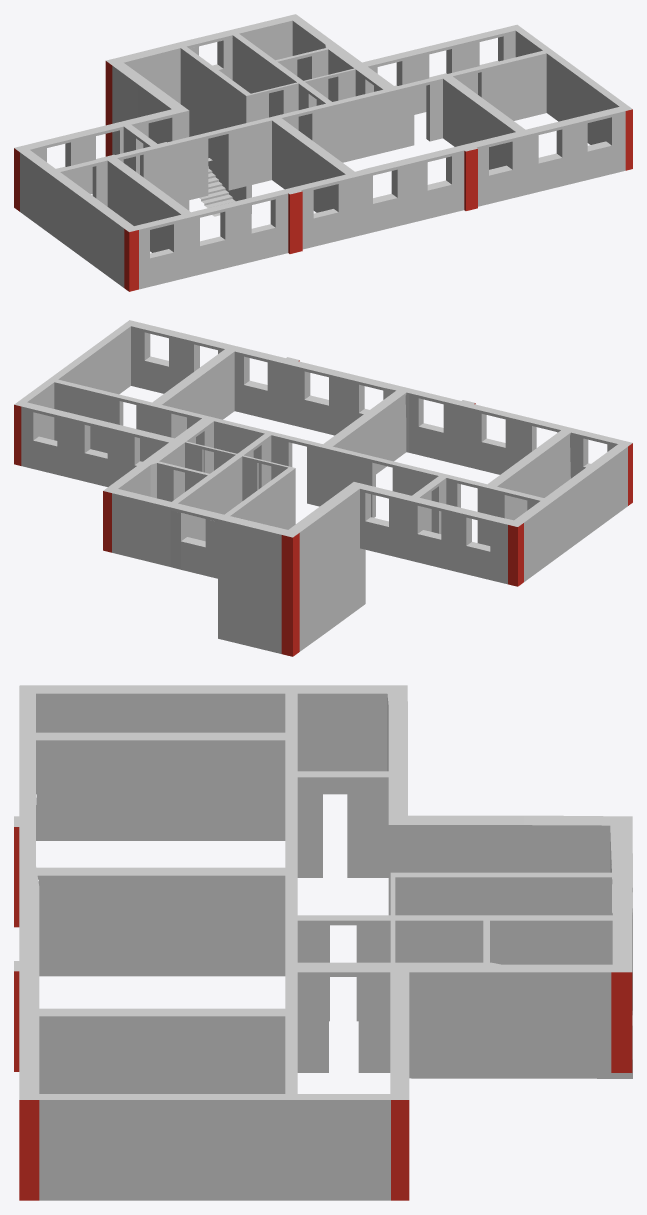
The model's file is DruhePoschodie.gltf.
The picture shows the model from 3 angles, top to bottom: view 1: azimuth 30°, elevation 25°; view 2: azimuth 150°, elevation 25°; view 3: azimuth 270°, elevation 25°; orthographic projection. The views are drawn at different scales.
Parts seen in each view (by area): view 1: Planeg; view 2: Planeg; view 3: Planeg.
Part boxes in pixels (x1,y1,x2,y2): Planeg: (14, 14, 632, 291); Planeg: (14, 320, 632, 656); Planeg: (14, 685, 632, 1200).
Bounding box in the file's own units: 0.371 × 0.0842 × 0.2341.
